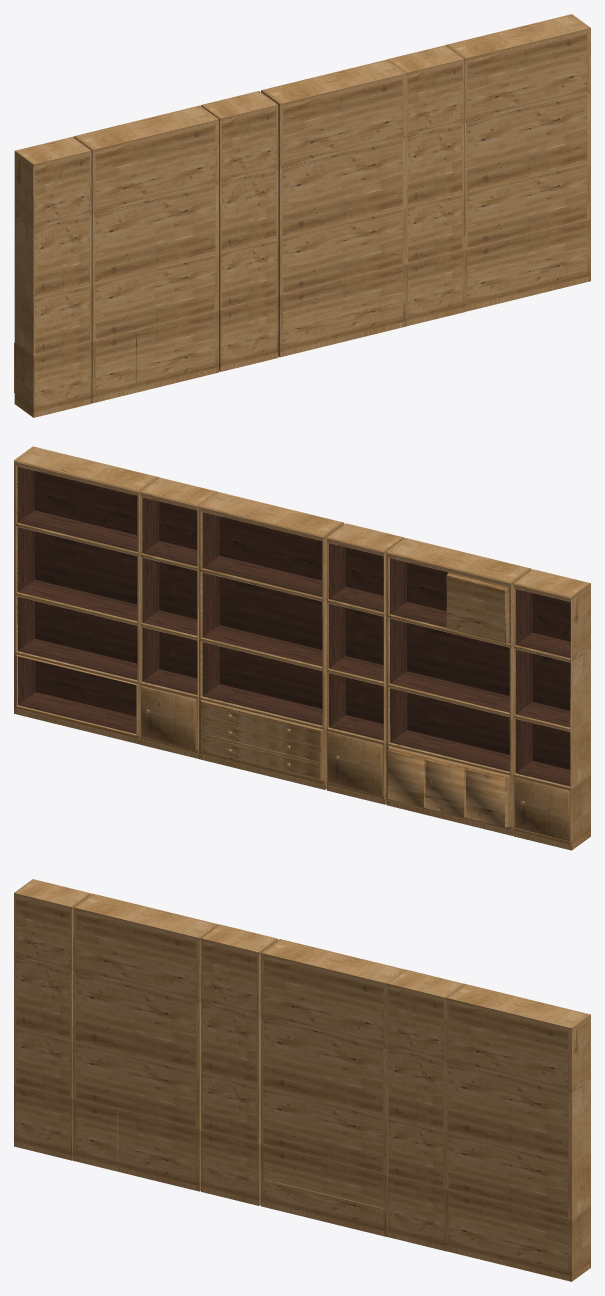
The model's file is Schraenke_Schublade_Tueren.fbx.
The picture shows the model from 3 angles, top to bottom: view 1: azimuth 30°, elevation 25°; view 2: azimuth 150°, elevation 25°; view 3: azimuth 330°, elevation 25°; orthographic projection.
Parts seen in each view (by area): view 1: Schrank1_2, Schrank1_4, Schrank1_1, Schrank1_5, Schrank1_3, Schrank1; view 2: Schrank1_1, Schrank1_2, Schrank1_4, Schrank1_5, Schrank1_3, Schrank1, Schranktü, Schranktür_3, Schranktür_2, Schranktür_1, Schranktü_1, Schranktü_2 (+4 smaller); view 3: Schrank1_1, Schrank1_4, Schrank1_2, Schrank1_3, Schrank1_5, Schrank1.
Boxes of the visible parts, x1=… form: Schrank1_2: x1=261, y1=59, x2=406, y2=357; Schrank1_4: x1=73, y1=105, x2=218, y2=403; Schrank1_1: x1=446, y1=14, x2=590, y2=311; Schrank1_5: x1=14, y1=136, x2=91, y2=417; Schrank1_3: x1=201, y1=91, x2=278, y2=371; Schrank1: x1=387, y1=45, x2=464, y2=326; Schrank1_1: x1=14, y1=446, x2=159, y2=744; Schrank1_2: x1=198, y1=492, x2=344, y2=789; Schrank1_4: x1=386, y1=538, x2=531, y2=835; Schrank1_5: x1=513, y1=569, x2=590, y2=850; Schrank1_3: x1=327, y1=523, x2=404, y2=804; Schrank1: x1=140, y1=477, x2=217, y2=758; Schranktü: x1=446, y1=574, x2=507, y2=643; Schranktür_3: x1=514, y1=777, x2=569, y2=841; Schranktür_2: x1=327, y1=732, x2=382, y2=795; Schranktür_1: x1=141, y1=686, x2=196, y2=749; Schranktü_1: x1=466, y1=768, x2=506, y2=827; Schranktü_2: x1=425, y1=758, x2=465, y2=817; Schrank1_1: x1=445, y1=983, x2=590, y2=1281; Schrank1_4: x1=73, y1=893, x2=218, y2=1191; Schrank1_2: x1=260, y1=939, x2=405, y2=1236; Schrank1_3: x1=200, y1=924, x2=277, y2=1205; Schrank1_5: x1=14, y1=879, x2=90, y2=1160; Schrank1: x1=387, y1=969, x2=463, y2=1251.
Bounding box in the file's own units: 475 × 207 × 34.48.
7 materials, 7 textured.
